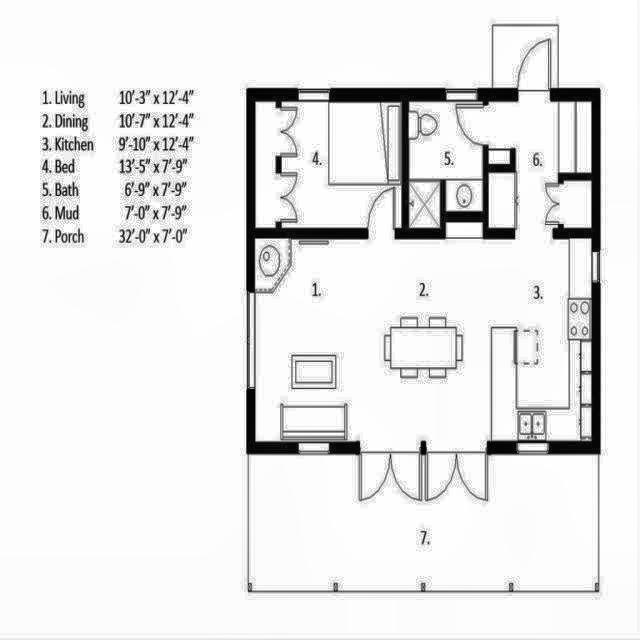room: (256, 240, 592, 442), (256, 103, 401, 228), (489, 103, 592, 227), (409, 101, 483, 227)
